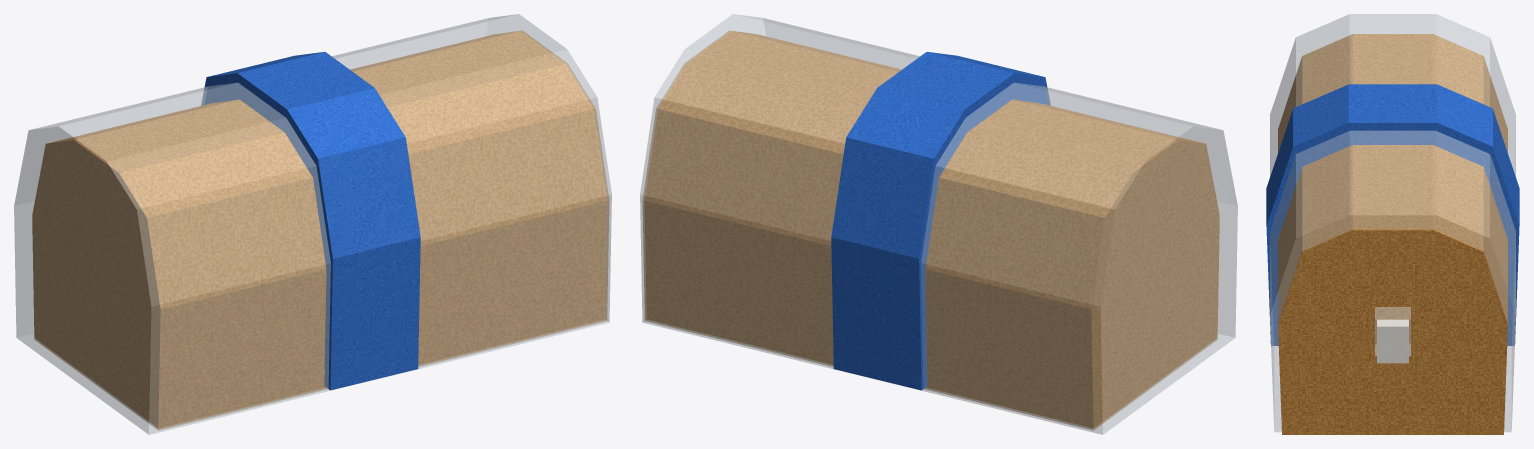
The picture shows the model from 3 angles, left to right: view 1: azimuth 30°, elevation 25°; view 2: azimuth 150°, elevation 25°; view 3: azimuth 270°, elevation 25°; orthographic projection. The views are drawn at different scales.
Parts seen in each view (by area): view 1: bread_loaf; view 2: bread_loaf; view 3: bread_loaf.
Boxes of the visible parts, left/top/right/bottom form: bread_loaf: left=14, top=14, right=611, bottom=434; bread_loaf: left=640, top=14, right=1237, bottom=434; bread_loaf: left=1266, top=14, right=1519, bottom=434.
Bounding box in the file's own units: 0.26 × 0.1241 × 0.1254.
4 materials, 4 textured.
